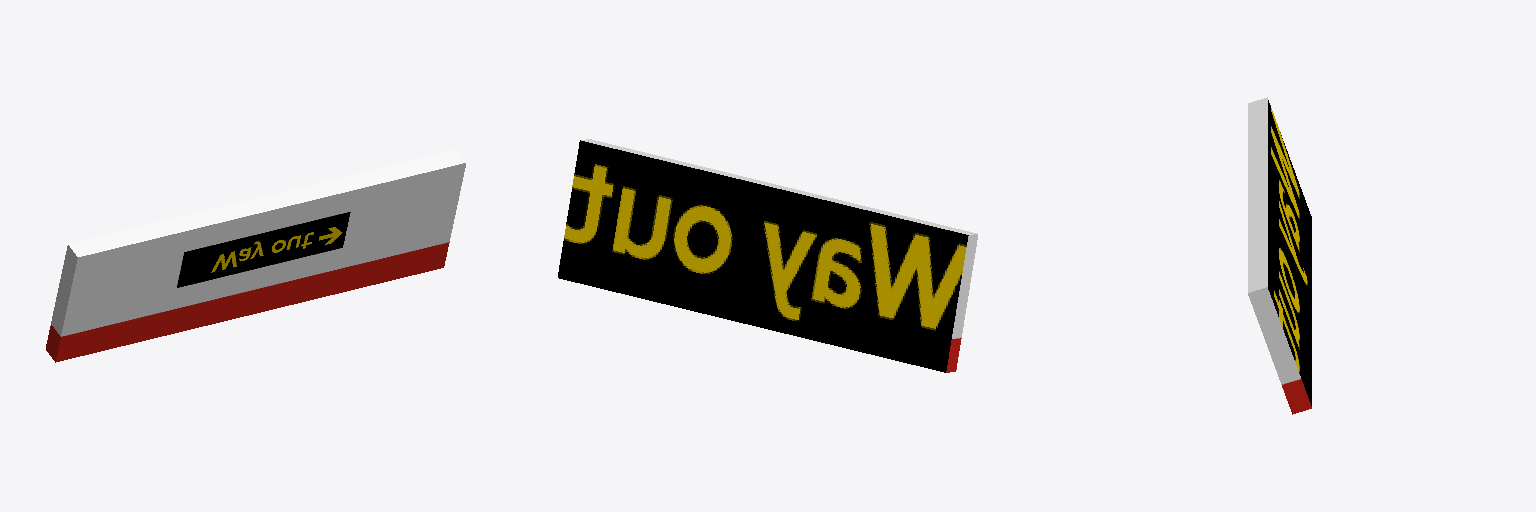
3 views of the same model, side by side, from view 1: azimuth 30°, elevation 25°; view 2: azimuth 150°, elevation 25°; view 3: azimuth 270°, elevation 25° (orthographic).
Visible parts, largest first — view 1: cube.001_cube.003; view 2: cube.001_cube.003; view 3: cube.001_cube.003.
Part boxes in pixels (x1,y1,x2,y2): cube.001_cube.003: (46, 149, 465, 362); cube.001_cube.003: (558, 139, 977, 372); cube.001_cube.003: (1248, 97, 1311, 414).
Bounding box in the file's own units: 1.5 × 0.47 × 0.2164.
Materials: 1 (1 with a texture image).